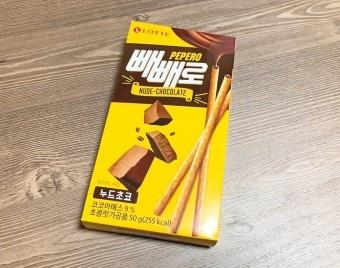snack: (80, 20, 237, 248)
